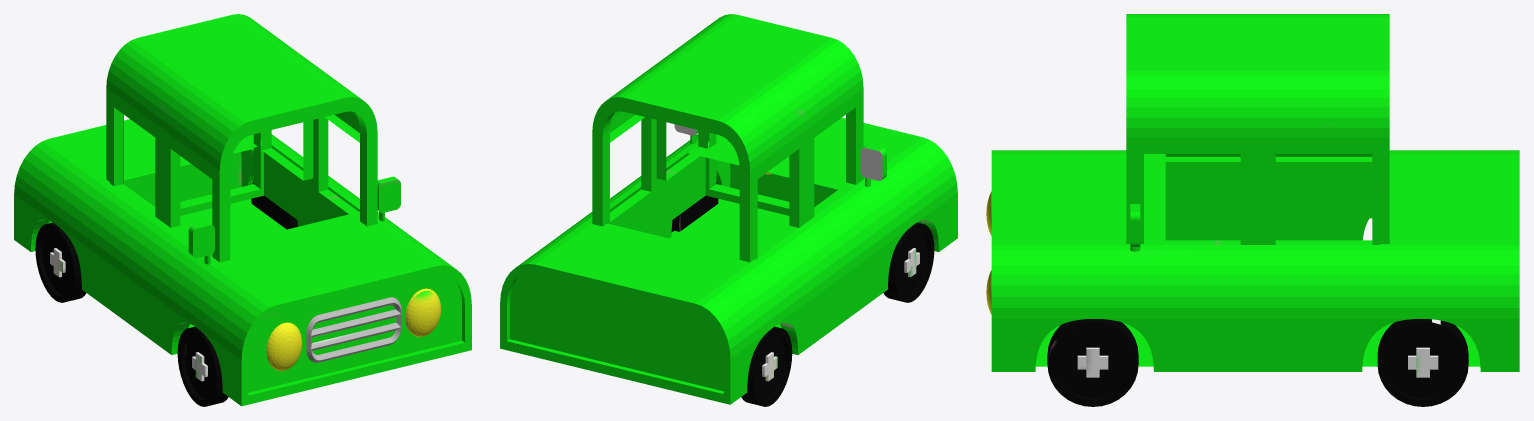
Rendered from car.fbx.
3 renders of one model, left to right at view 1: azimuth 30°, elevation 25°; view 2: azimuth 150°, elevation 25°; view 3: azimuth 270°, elevation 25°, orthographic. The views are drawn at different scales.
Parts seen in each view (by area): view 1: Plano; view 2: Plano; view 3: Plano.
Part boxes in pixels (<box>): Plano: <box>14,14,471,406</box>; Plano: <box>500,14,957,406</box>; Plano: <box>986,14,1519,406</box>.
Size of the model in its own units: 120 by 127 by 207.
Materials: 1 (1 with a texture image).
